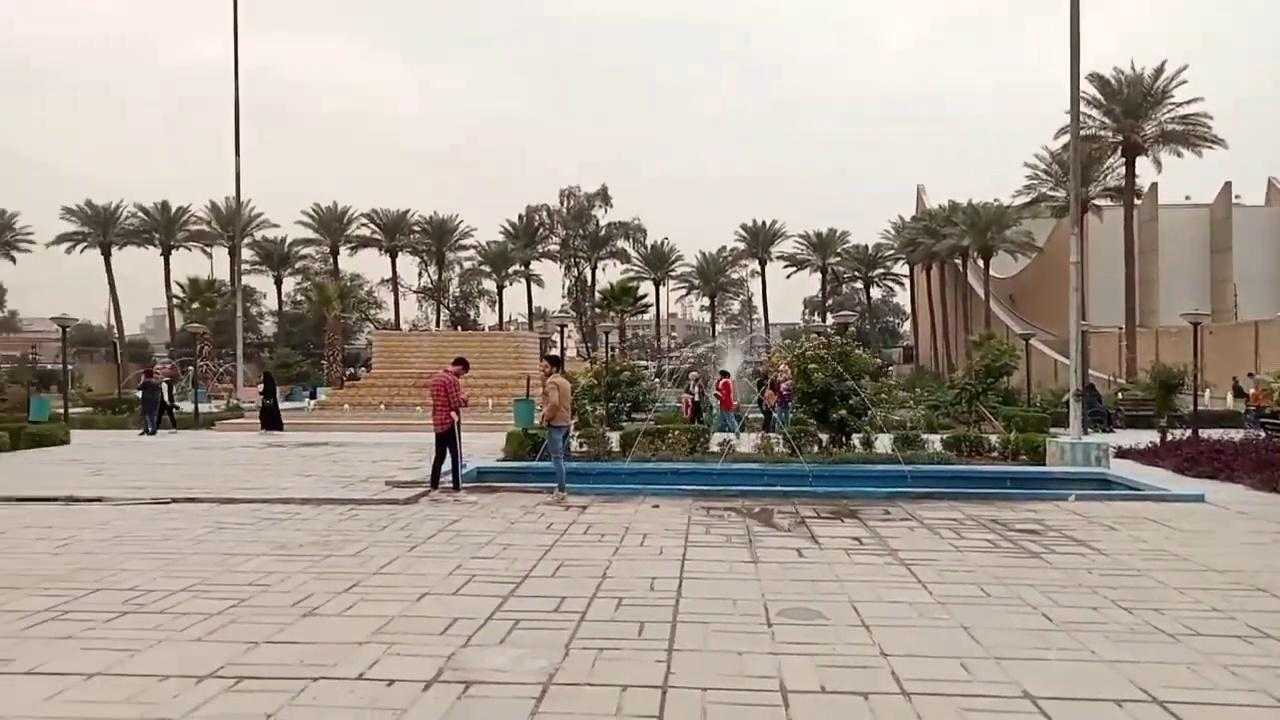car: (1059, 387, 1116, 432)
fountain: (456, 319, 1202, 500), (455, 435, 1203, 501), (120, 319, 247, 429), (511, 373, 536, 427)
person: (428, 356, 470, 492), (537, 353, 572, 503), (135, 367, 163, 435), (710, 369, 739, 434), (256, 370, 284, 432), (772, 362, 794, 431), (683, 371, 705, 424)
tree: (1052, 56, 1228, 385), (1011, 140, 1138, 401), (44, 196, 148, 396), (190, 194, 280, 401), (879, 202, 967, 381), (526, 182, 613, 359), (943, 197, 1042, 335), (293, 199, 362, 386), (560, 214, 646, 355), (126, 198, 204, 350), (1010, 140, 1144, 225), (300, 270, 383, 387), (349, 205, 421, 329), (408, 210, 476, 330), (244, 231, 311, 350), (836, 241, 905, 351), (619, 237, 683, 353), (732, 216, 789, 343), (779, 226, 851, 325), (671, 245, 746, 339), (497, 209, 553, 330), (462, 238, 529, 330), (293, 199, 360, 280), (591, 278, 652, 358), (169, 273, 229, 328), (0, 206, 35, 265)
